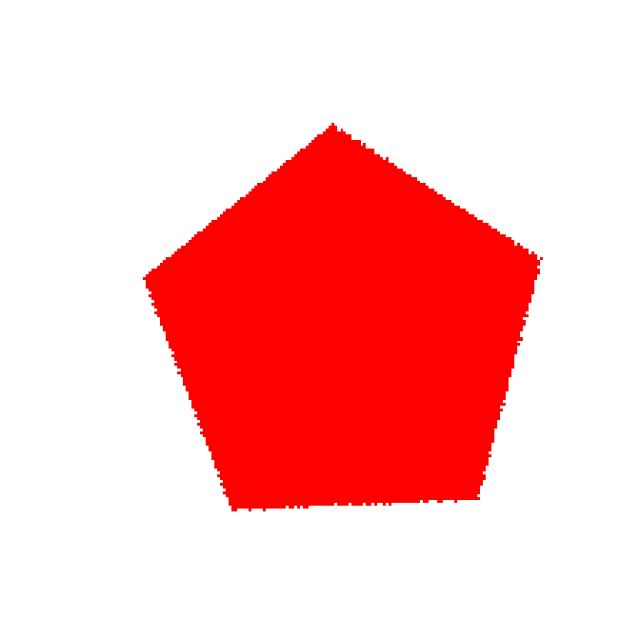Pentagon: (116, 96, 570, 534)
